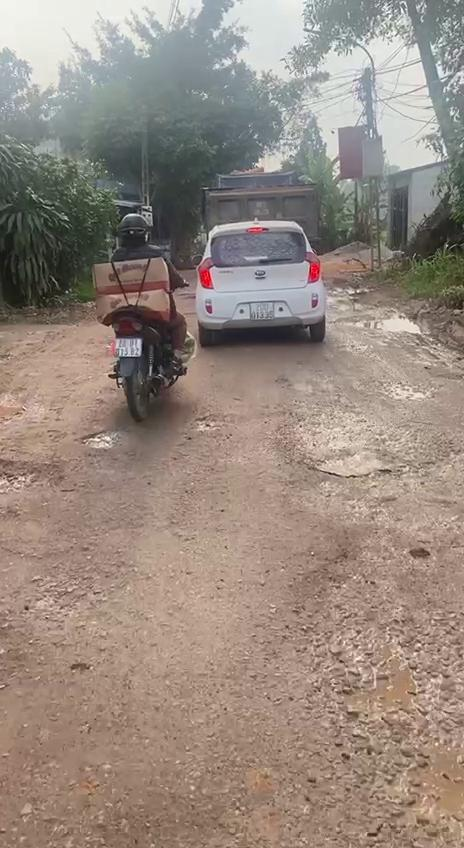pothole: (299, 552, 464, 848), (0, 550, 136, 688), (280, 421, 452, 483), (0, 457, 71, 500), (0, 390, 30, 426), (82, 427, 126, 448), (194, 416, 232, 433)
